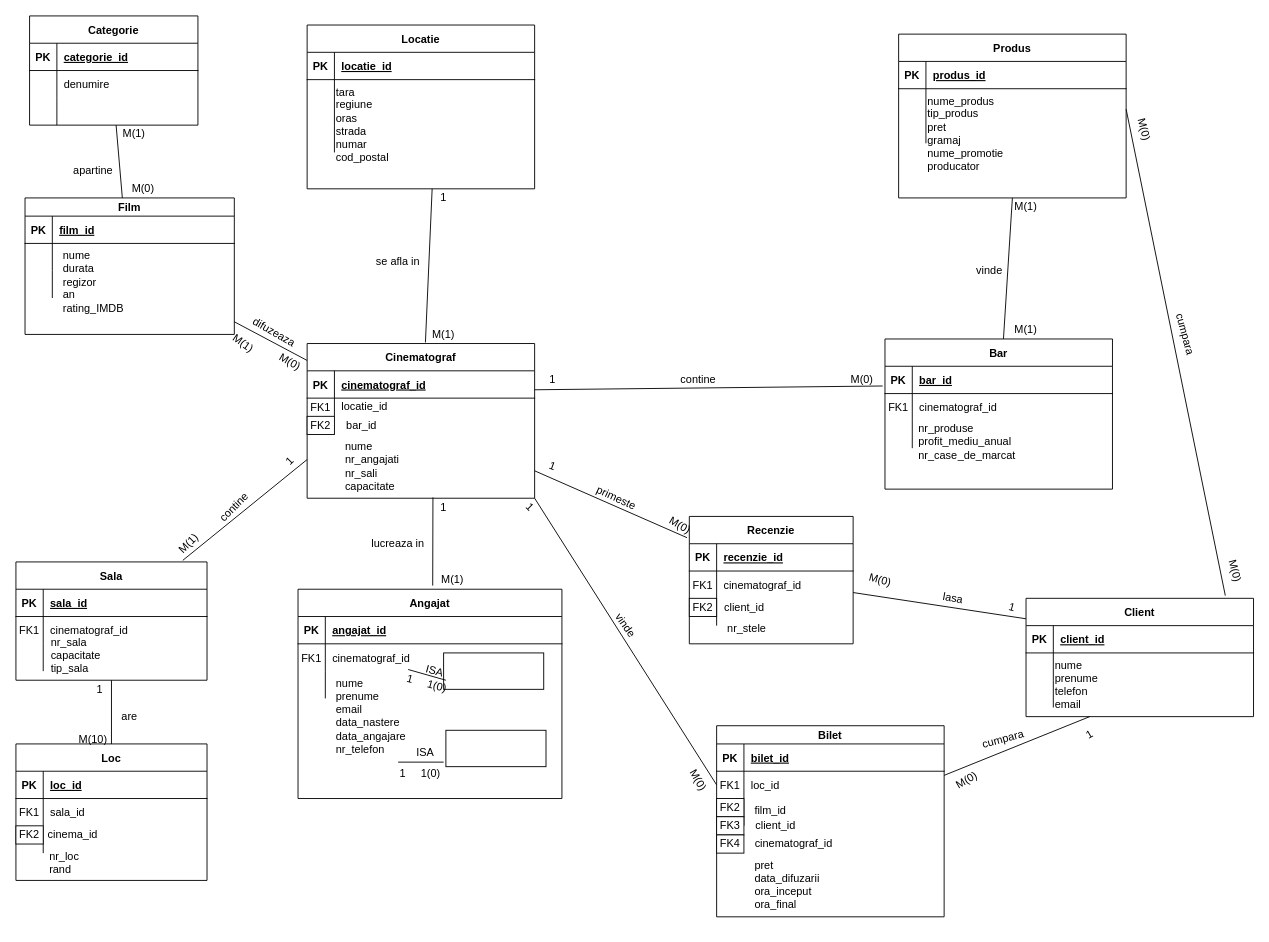
The diagram is 1269 pixels wide and 942 high, and some of its shapes have lost their labels. Each missing label, with the box of its shape:
Casier nr_bonuri_eliberate: (445, 729, 546, 767)
Manager comision: (443, 652, 544, 689)
